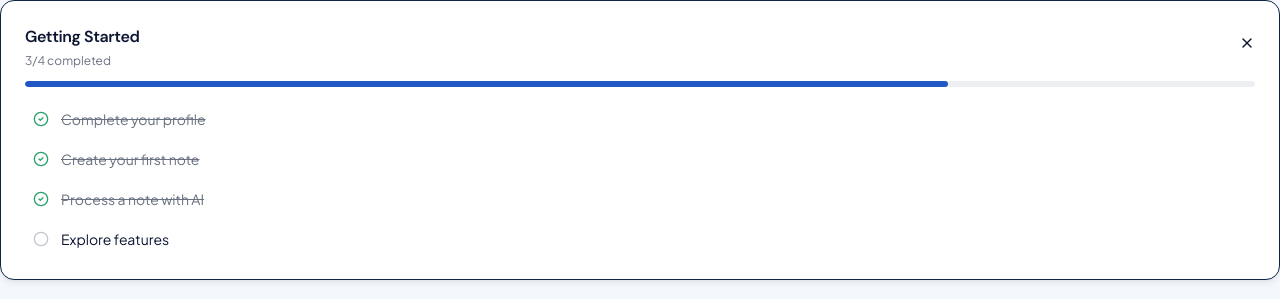
Test case: GettingStartedChecklist › can reach every item: AI processing and the features tour both tick off
Expected: the text "3/4 completed" is shown, [25, 53, 111, 68]
Click the button "Explore features": {"x": 115, "y": 239} [25, 223, 1255, 255]
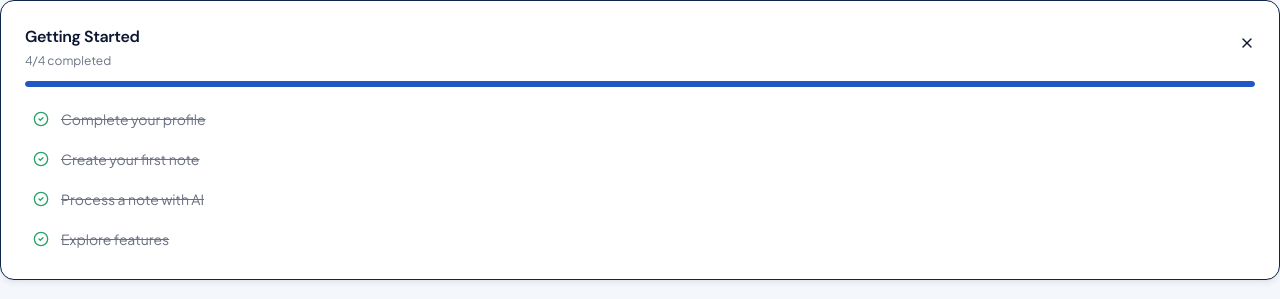
Expected: the text "4/4 completed" is shown, [25, 53, 111, 68]
